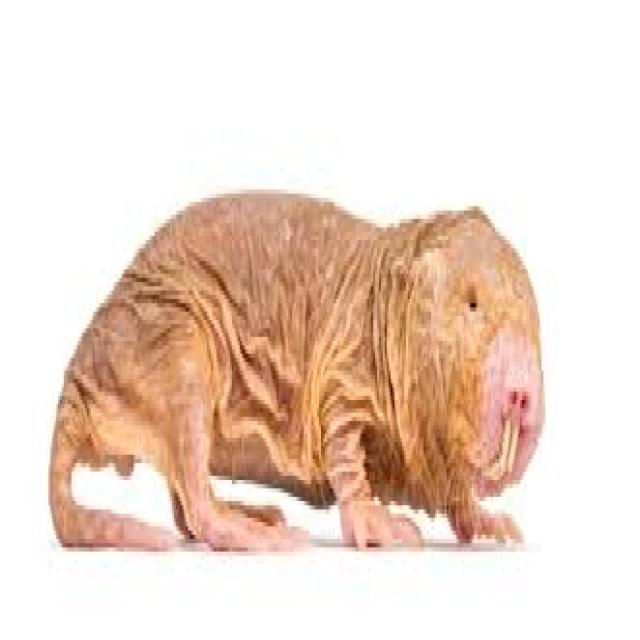rat: (47, 185, 546, 552)
